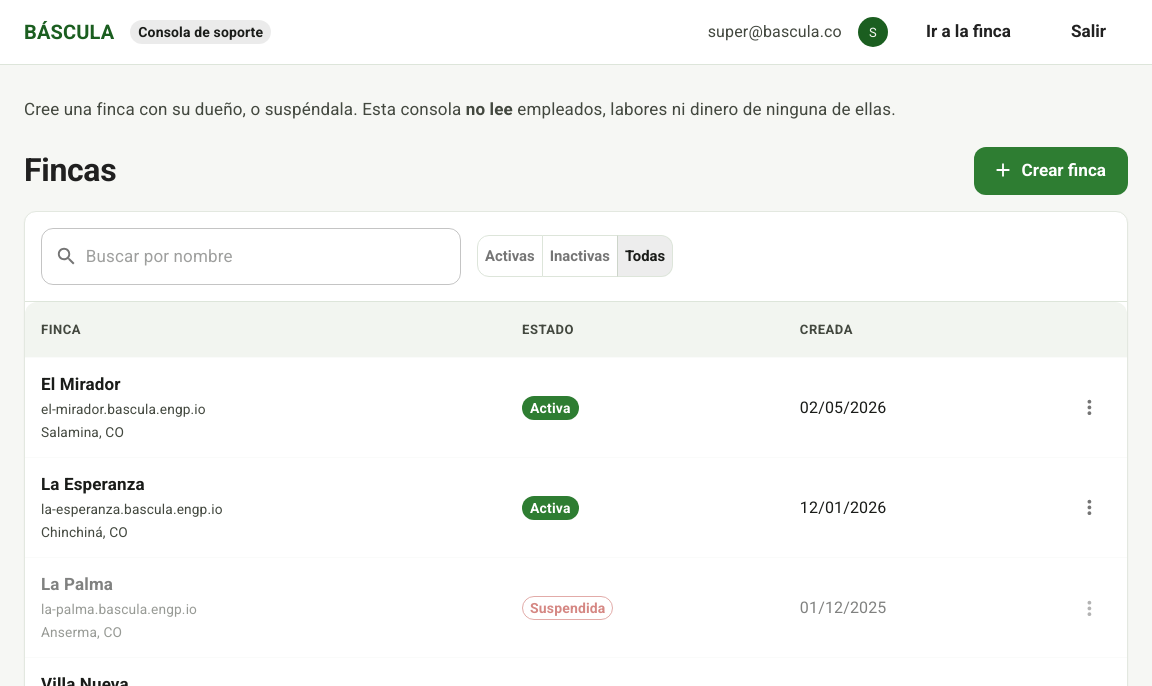
Test: the new-farm form › adds the farm to an existing account without touching its password
The width and height of the screenshot is (1152, 686).
Expected: the text "La Esperanza" is shown, [41,474,145,494]
Click the button "Crear finca": x=1051, y=170 [974,146,1128,194]
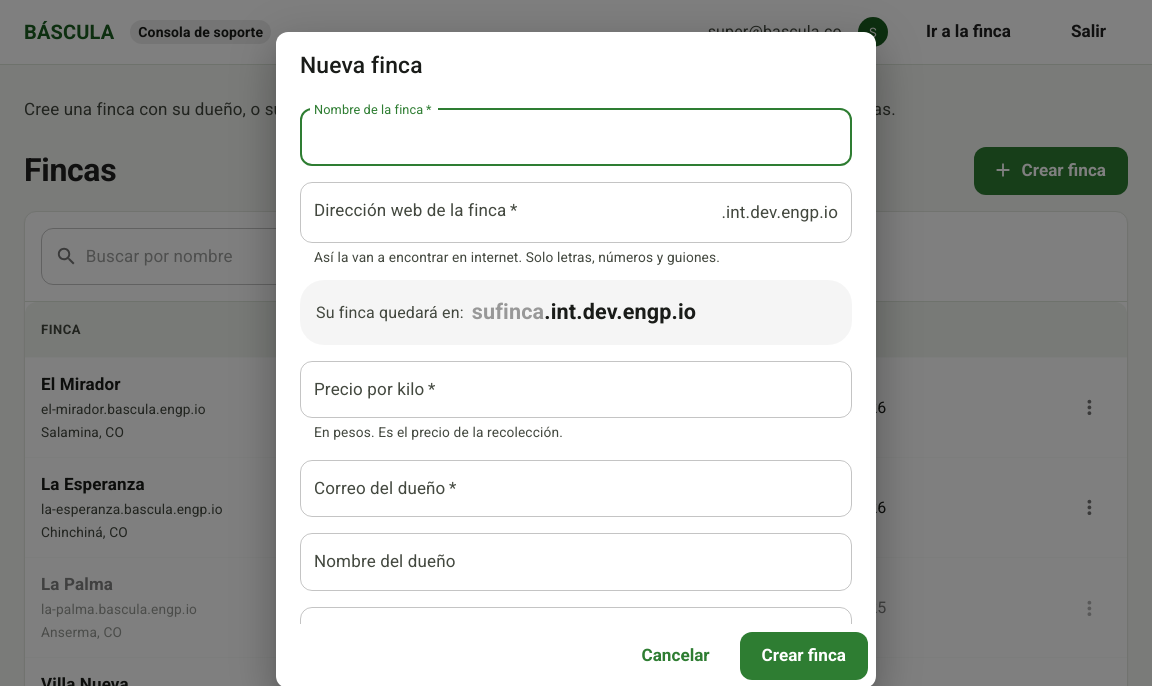
In the field labelled "Nombre de la finca *": x=576, y=137 [300,109,852,166], type "El Cedro"
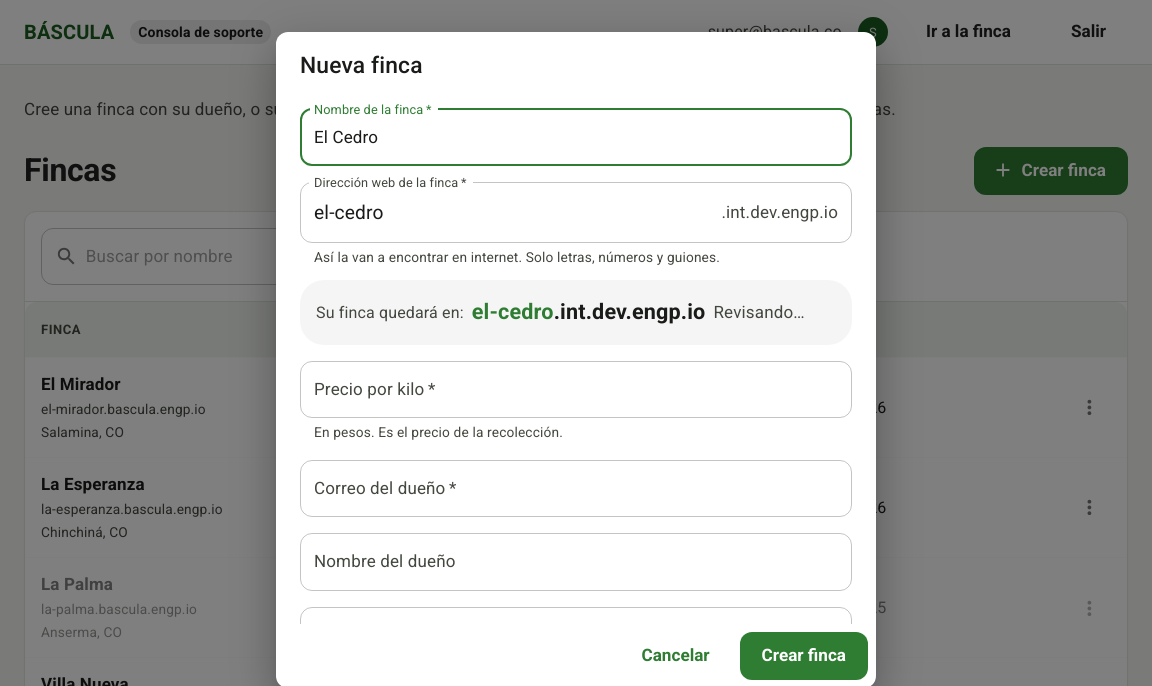
In the field labelled "Precio por kilo *": x=576, y=390 [300,361,852,418], type "900"
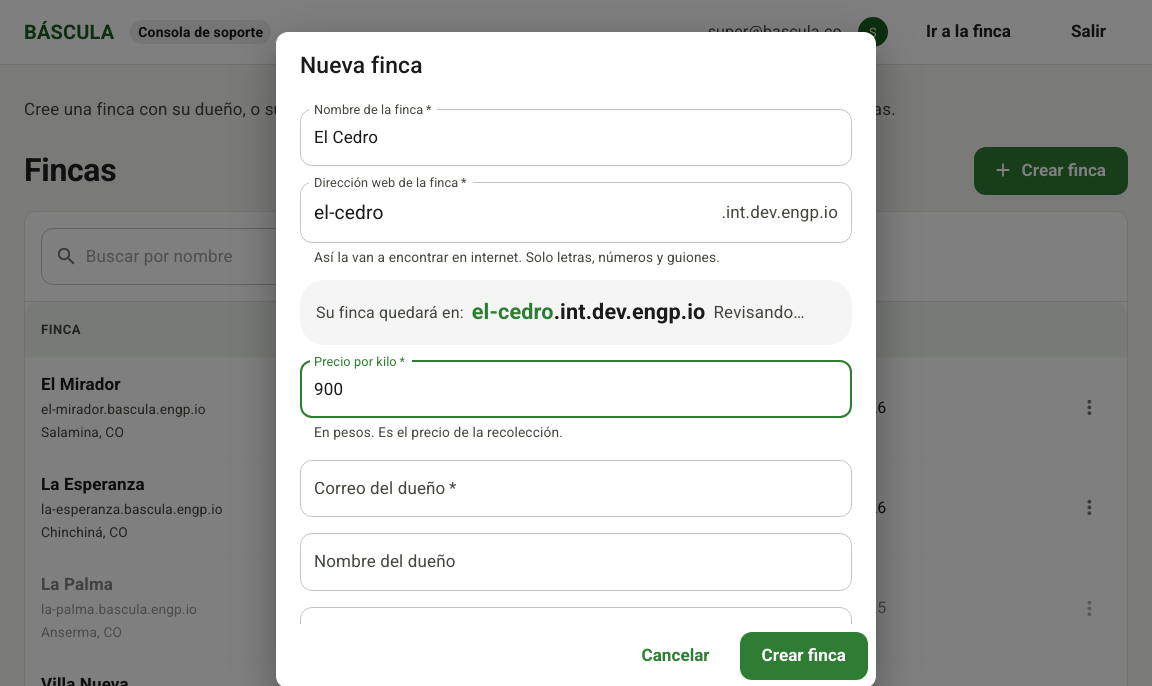
In the field labelled "Correo del dueño *": x=576, y=489 [300,460,852,517], type "oscar@laesperanza.co"
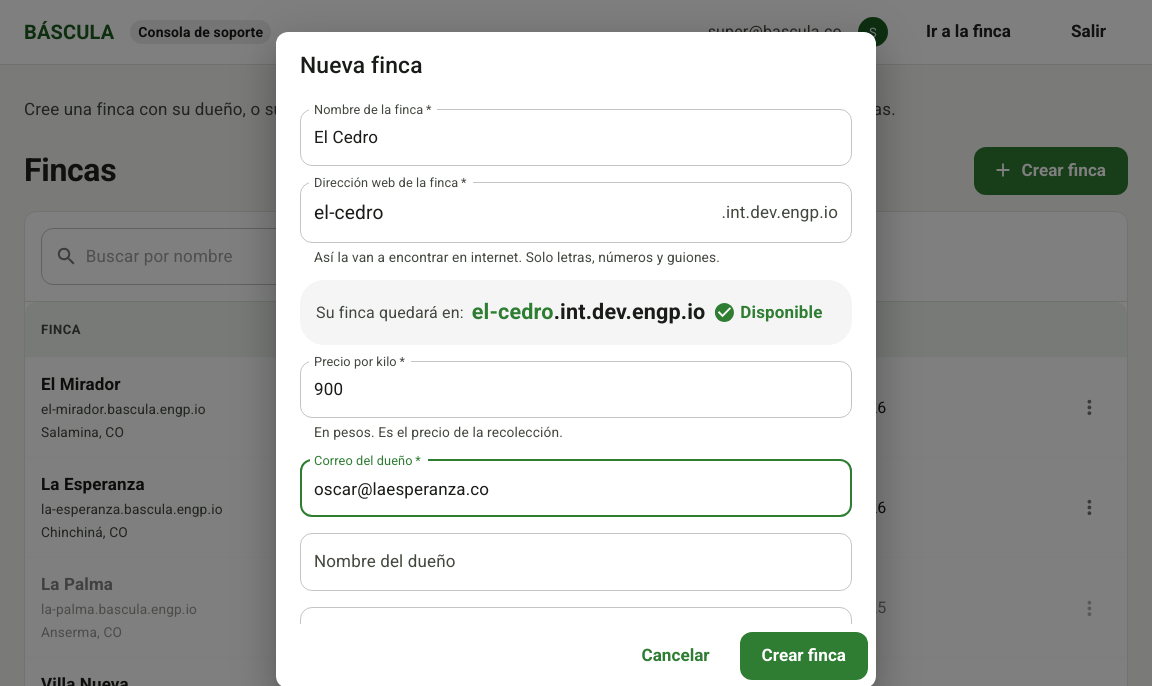
Click the button "Crear finca": x=804, y=656 [740,632,868,680]
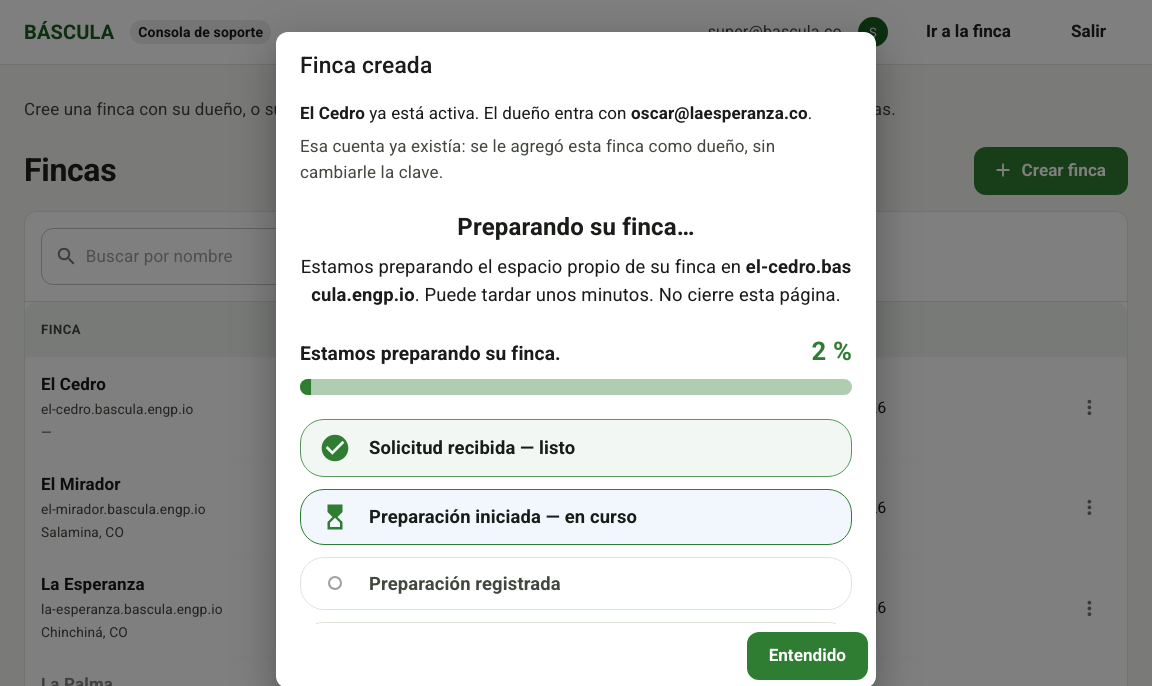
Expected: the text "Esa cuenta ya existía" is shown, [300,136,775,182]
